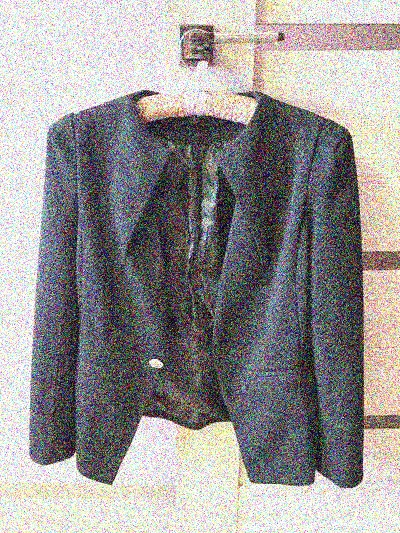Blazer: (19, 72, 386, 492)
